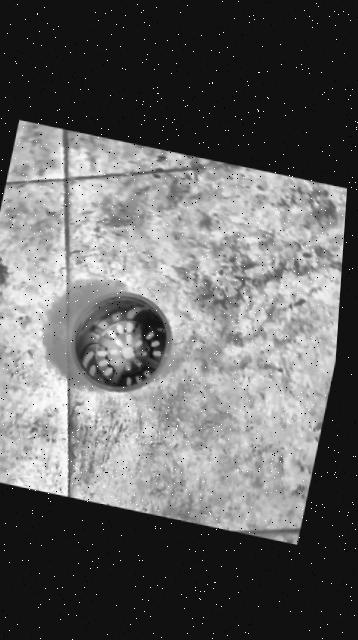pot: (60, 282, 178, 403)
